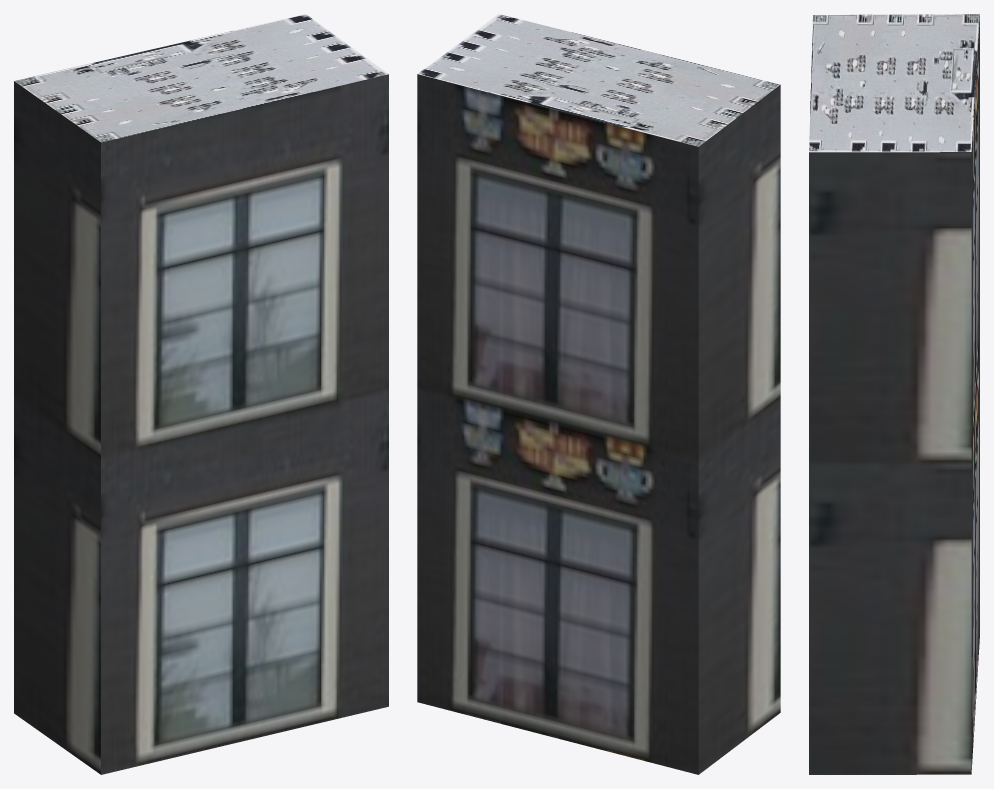
The model's file is ResTex__2649.fbx.
The picture shows the model from 3 angles, left to right: view 1: azimuth 30°, elevation 25°; view 2: azimuth 150°, elevation 25°; view 3: azimuth 270°, elevation 25°; orthographic projection.
Parts seen in each view (by area): view 1: CityEngineMaterial_22_m, CityEngineMaterial_4_m; view 2: CityEngineMaterial_22_m, CityEngineMaterial_4_m; view 3: CityEngineMaterial_22_m, CityEngineMaterial_4_m.
Part boxes in pixels (box(x1,y1,x2,y2)): CityEngineMaterial_22_m: box(14, 74, 388, 774); CityEngineMaterial_4_m: box(14, 14, 388, 142); CityEngineMaterial_22_m: box(417, 74, 780, 774); CityEngineMaterial_4_m: box(418, 14, 779, 146); CityEngineMaterial_22_m: box(809, 16, 979, 774); CityEngineMaterial_4_m: box(809, 14, 979, 152).
Size of the model in its own units: 2.86 by 6 by 1.49.
2 materials, 2 textured.
